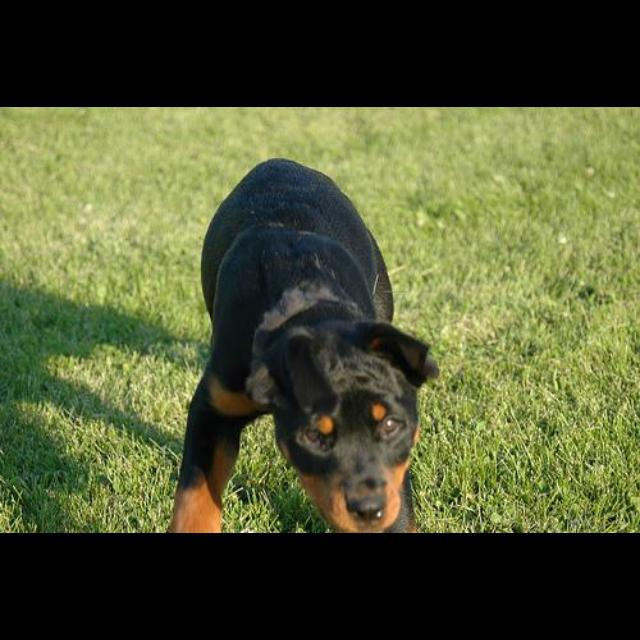rottweiler: (168, 157, 440, 533)
